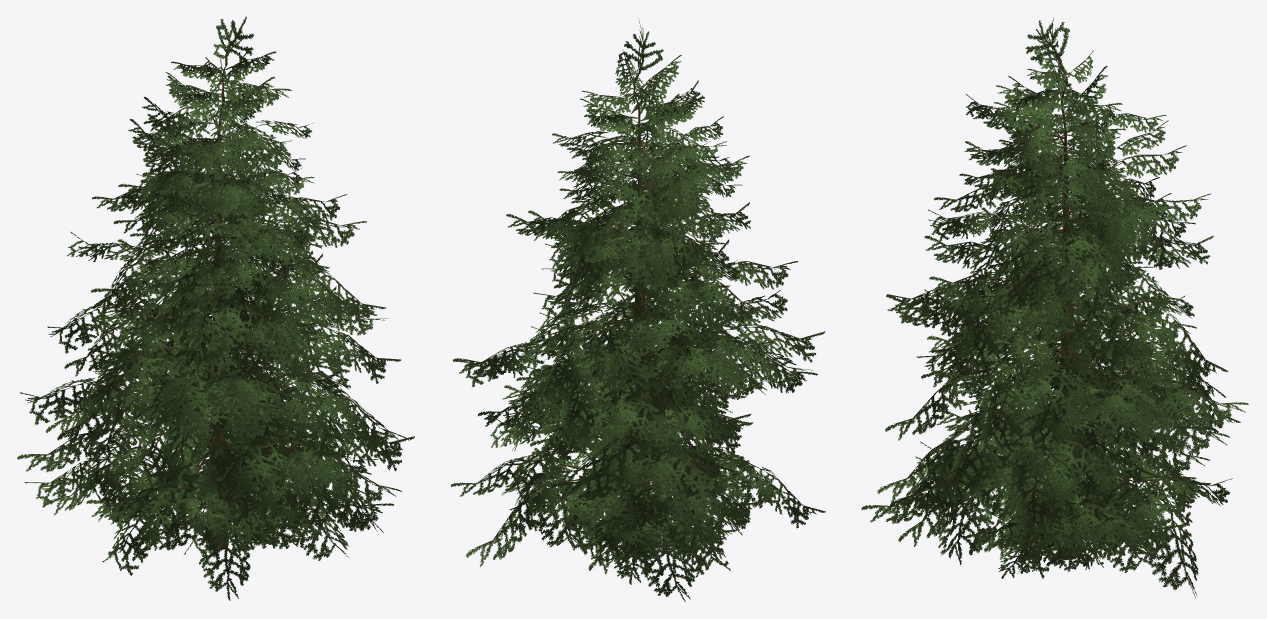
The model's file is baum_fichte_5_lod0.glb.
3 views of the same model, side by side, from view 1: azimuth 30°, elevation 25°; view 2: azimuth 150°, elevation 25°; view 3: azimuth 270°, elevation 25° (orthographic). The views are drawn at different scales.
Parts seen in each view (by area): view 1: Krone, Stamm; view 2: Krone, Stamm; view 3: Krone, Stamm.
Part boxes in pixels (x1,y1,x2,y2): Krone: (17, 16, 414, 600); Stamm: (114, 66, 318, 549); Krone: (450, 18, 825, 601); Stamm: (537, 81, 747, 555); Krone: (861, 17, 1248, 598); Stamm: (964, 72, 1167, 558).
Size of the model in its own units: 7.84 by 12 by 7.87.
2 materials, 2 textured.
